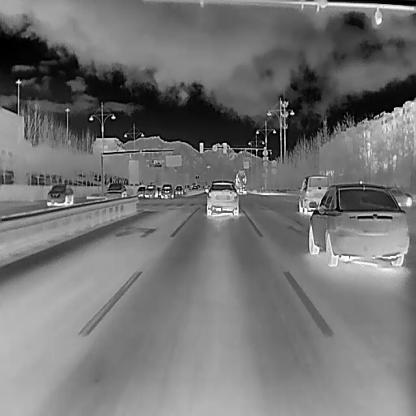car: (308, 183, 410, 266), (298, 175, 329, 215), (204, 180, 238, 216), (45, 184, 73, 206), (385, 186, 412, 207), (104, 182, 127, 197), (234, 169, 247, 194), (159, 183, 173, 199), (145, 185, 157, 197), (136, 186, 145, 196), (174, 185, 182, 195), (191, 184, 198, 192), (183, 184, 189, 192)
